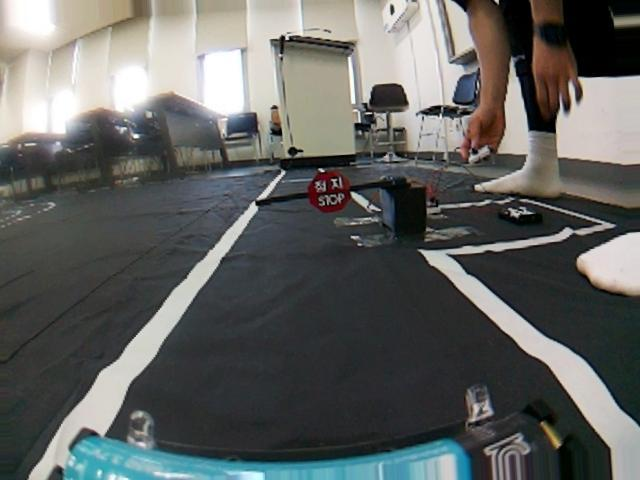sign_stop: (310, 169, 352, 214)
straight: (4, 247, 639, 480)
